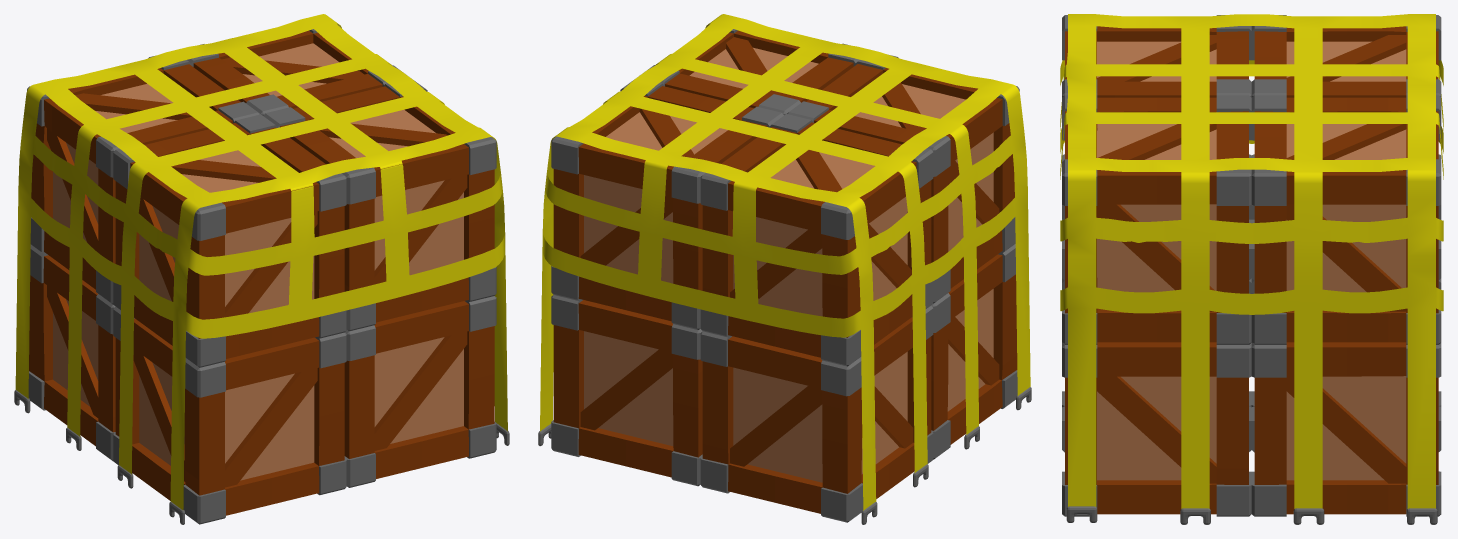
File: boxPiles.fbx
3 views of the same model, side by side, from view 1: azimuth 30°, elevation 25°; view 2: azimuth 150°, elevation 25°; view 3: azimuth 270°, elevation 25° (orthographic). The views are drawn at different scales.
Parts seen in each view (by area): view 1: Boxes, Filet; view 2: Boxes, Filet; view 3: Boxes, Filet.
Part boxes in pixels (bbox=[...]): Boxes: bbox=[27, 24, 496, 524]; Filet: bbox=[14, 14, 509, 524]; Boxes: bbox=[551, 24, 1019, 522]; Filet: bbox=[538, 14, 1031, 524]; Boxes: bbox=[1062, 15, 1441, 516]; Filet: bbox=[1060, 14, 1443, 524].
Bounding box in the file's own units: 226 × 207 × 208.
